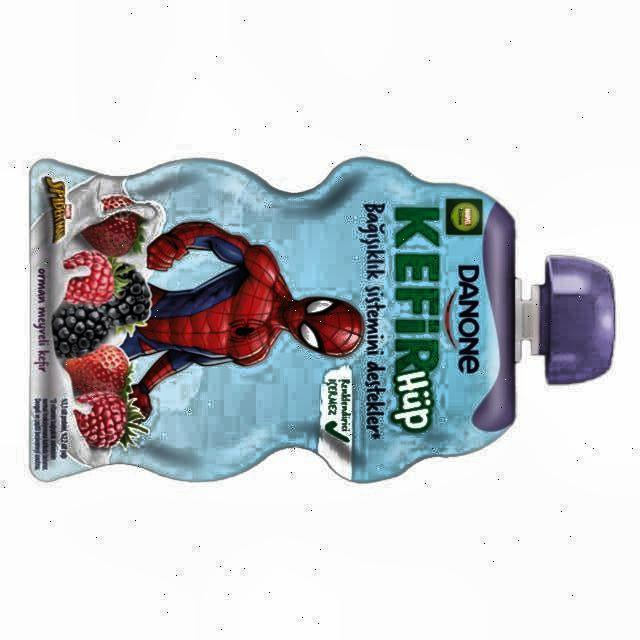plastic: (30, 159, 615, 482)
